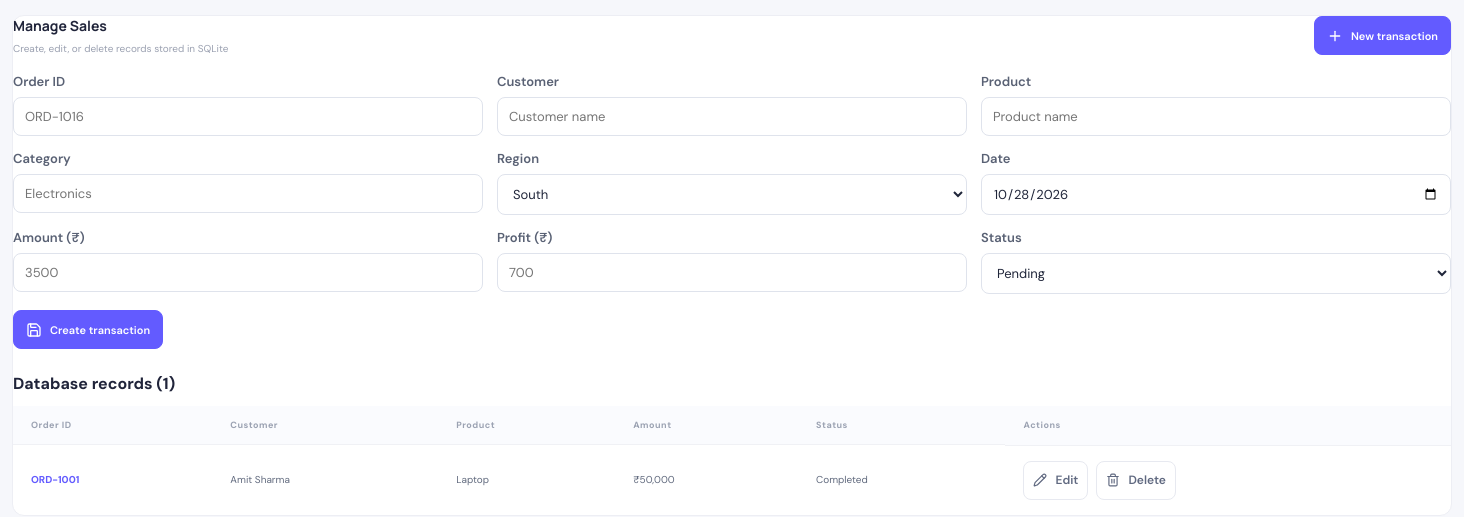
SalesManager › cancels editing and resets the form
The width and height of the screenshot is (1464, 517).
Click the button with aria-label "Edit ORD-1001" at coordinates (1056, 480), box [1024,460,1088,500]
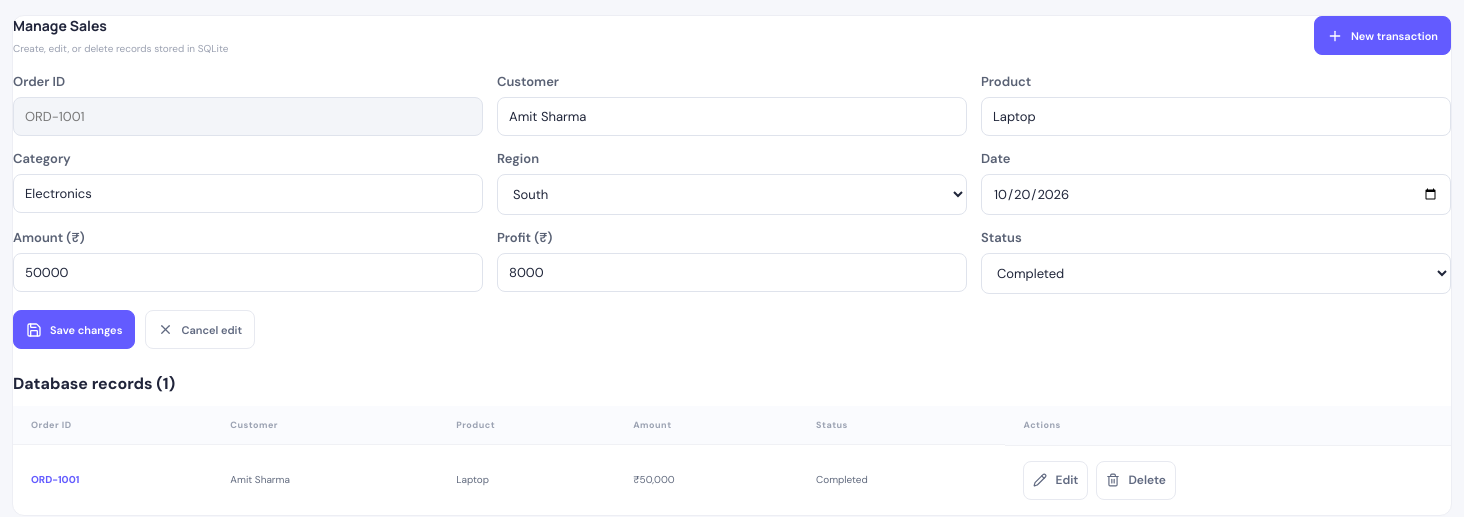
Click the button "Cancel edit" at coordinates (200, 330), box [145,310,255,349]
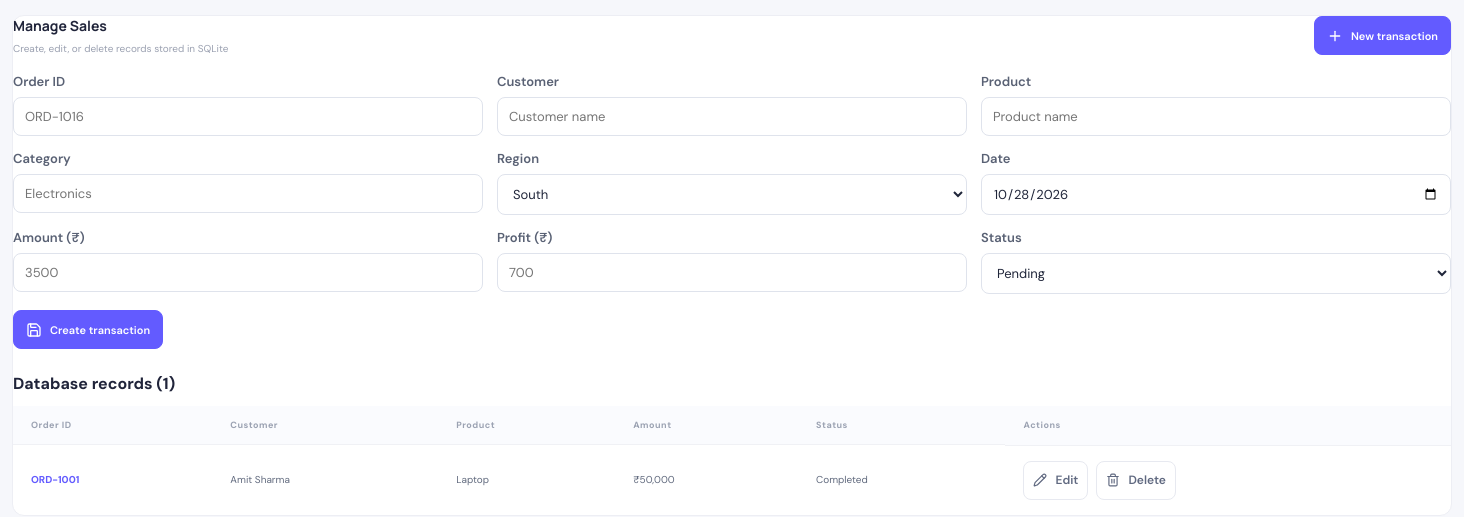
Now the button "Create transaction" is shown, box [13,310,163,349]
Now the field labelled "Customer" is empty, box [497,97,967,136]
